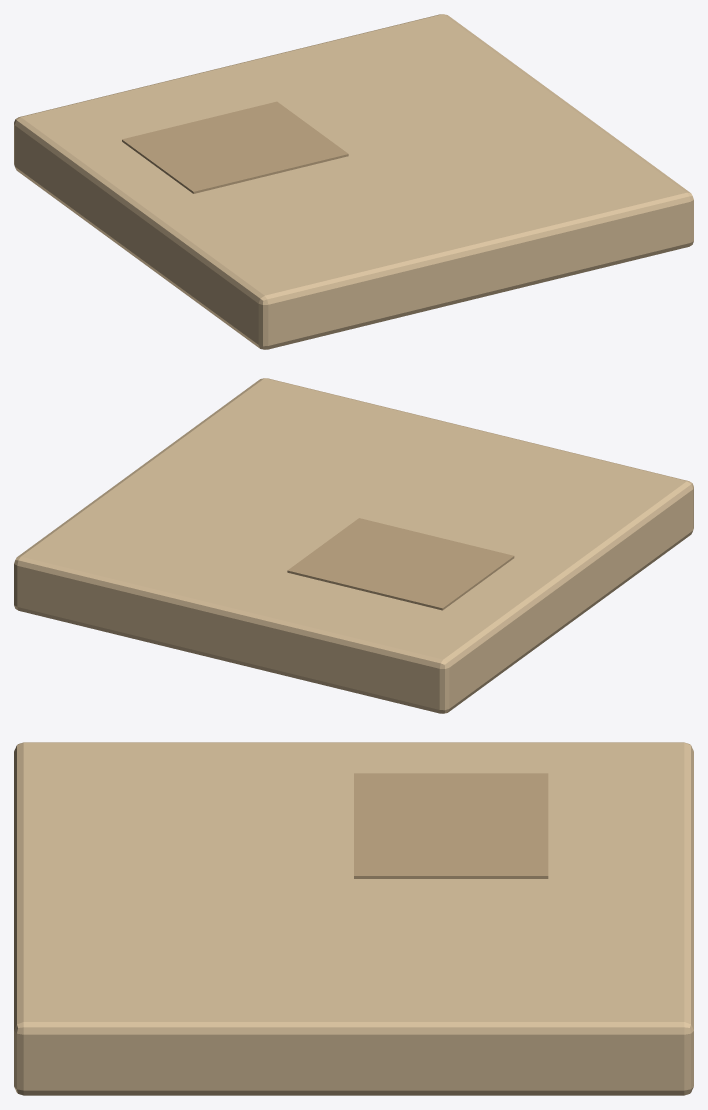
Rendered from pizza_box.fbx.
3 renders of one model, top to bottom at view 1: azimuth 30°, elevation 25°; view 2: azimuth 150°, elevation 25°; view 3: azimuth 270°, elevation 25°, orthographic. The views are drawn at different scales.
Parts seen in each view (by area): view 1: pizza_box; view 2: pizza_box; view 3: pizza_box.
Boxes of the visible parts, x1,y1,x2,y2 form: pizza_box: (14, 14, 693, 349); pizza_box: (14, 378, 693, 713); pizza_box: (14, 742, 693, 1095).
Size of the model in its own units: 0.42 by 0.052 by 0.42.
